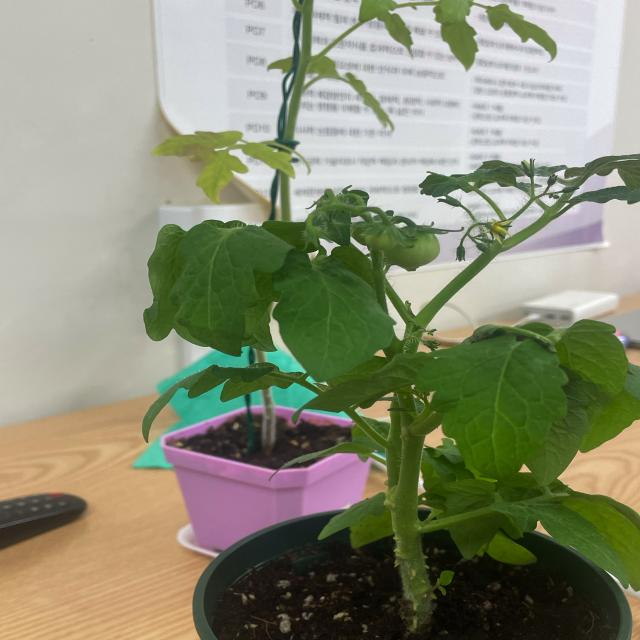level 1: (382, 224, 445, 272), (352, 217, 412, 254)
